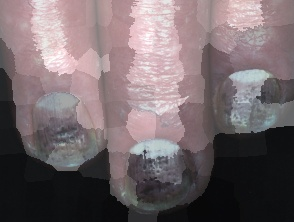Nail_psoriasis: (9, 78, 108, 185), (209, 60, 291, 140), (125, 137, 200, 212)
